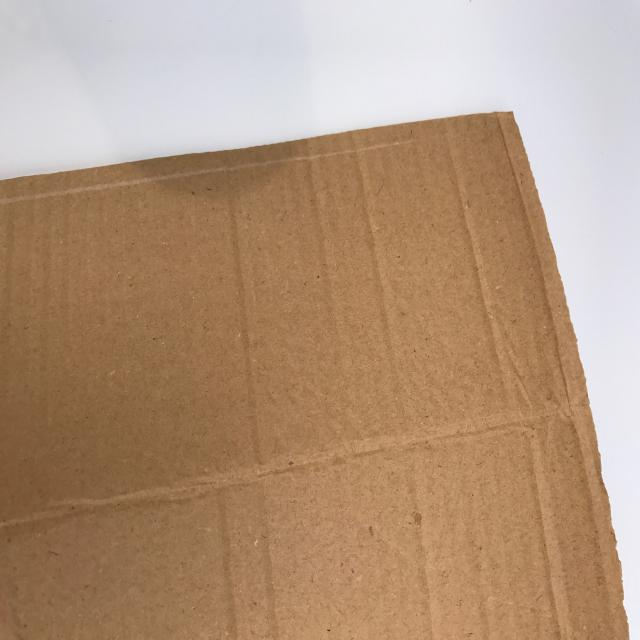cardboard: (0, 108, 629, 640)
